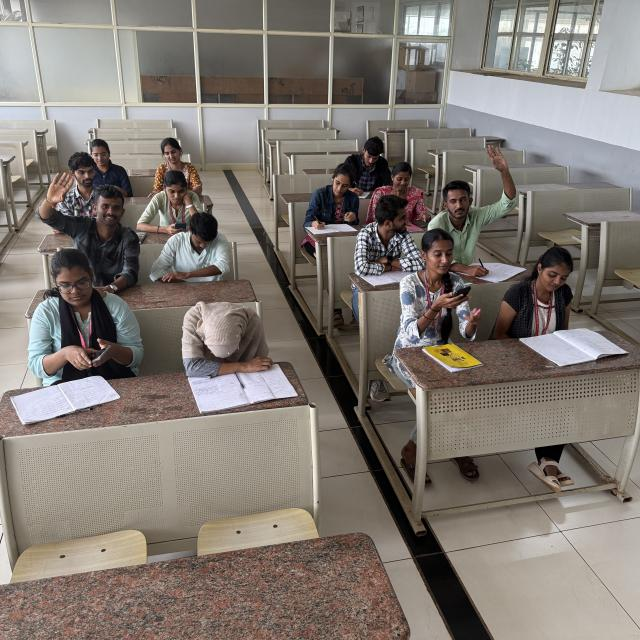Hand Rising: (40, 168, 140, 280), (438, 143, 512, 246)
Reading: (514, 242, 598, 352)
Sleeping: (179, 293, 296, 373)
Using Phone: (30, 250, 145, 370), (406, 229, 470, 321), (130, 172, 205, 234), (378, 161, 435, 231)
Writing: (304, 167, 361, 233), (346, 135, 392, 200)
